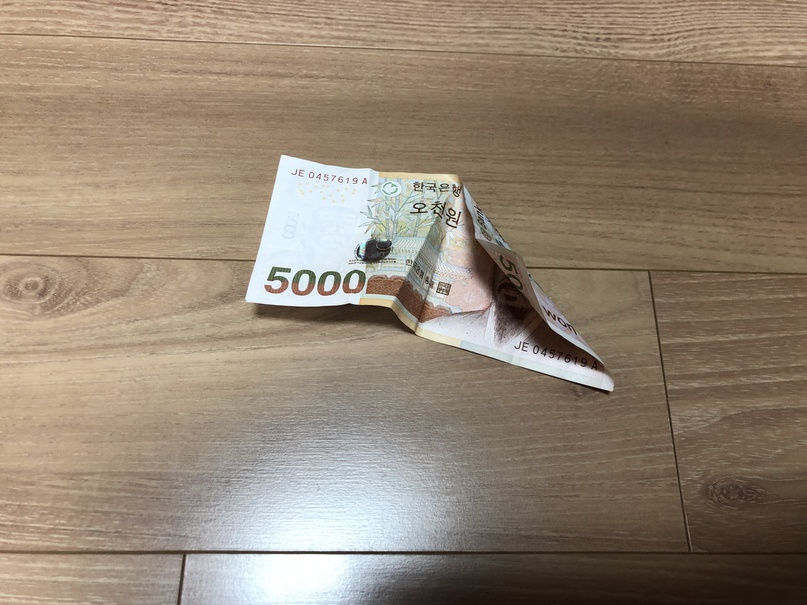5000won: (242, 155, 615, 394)
